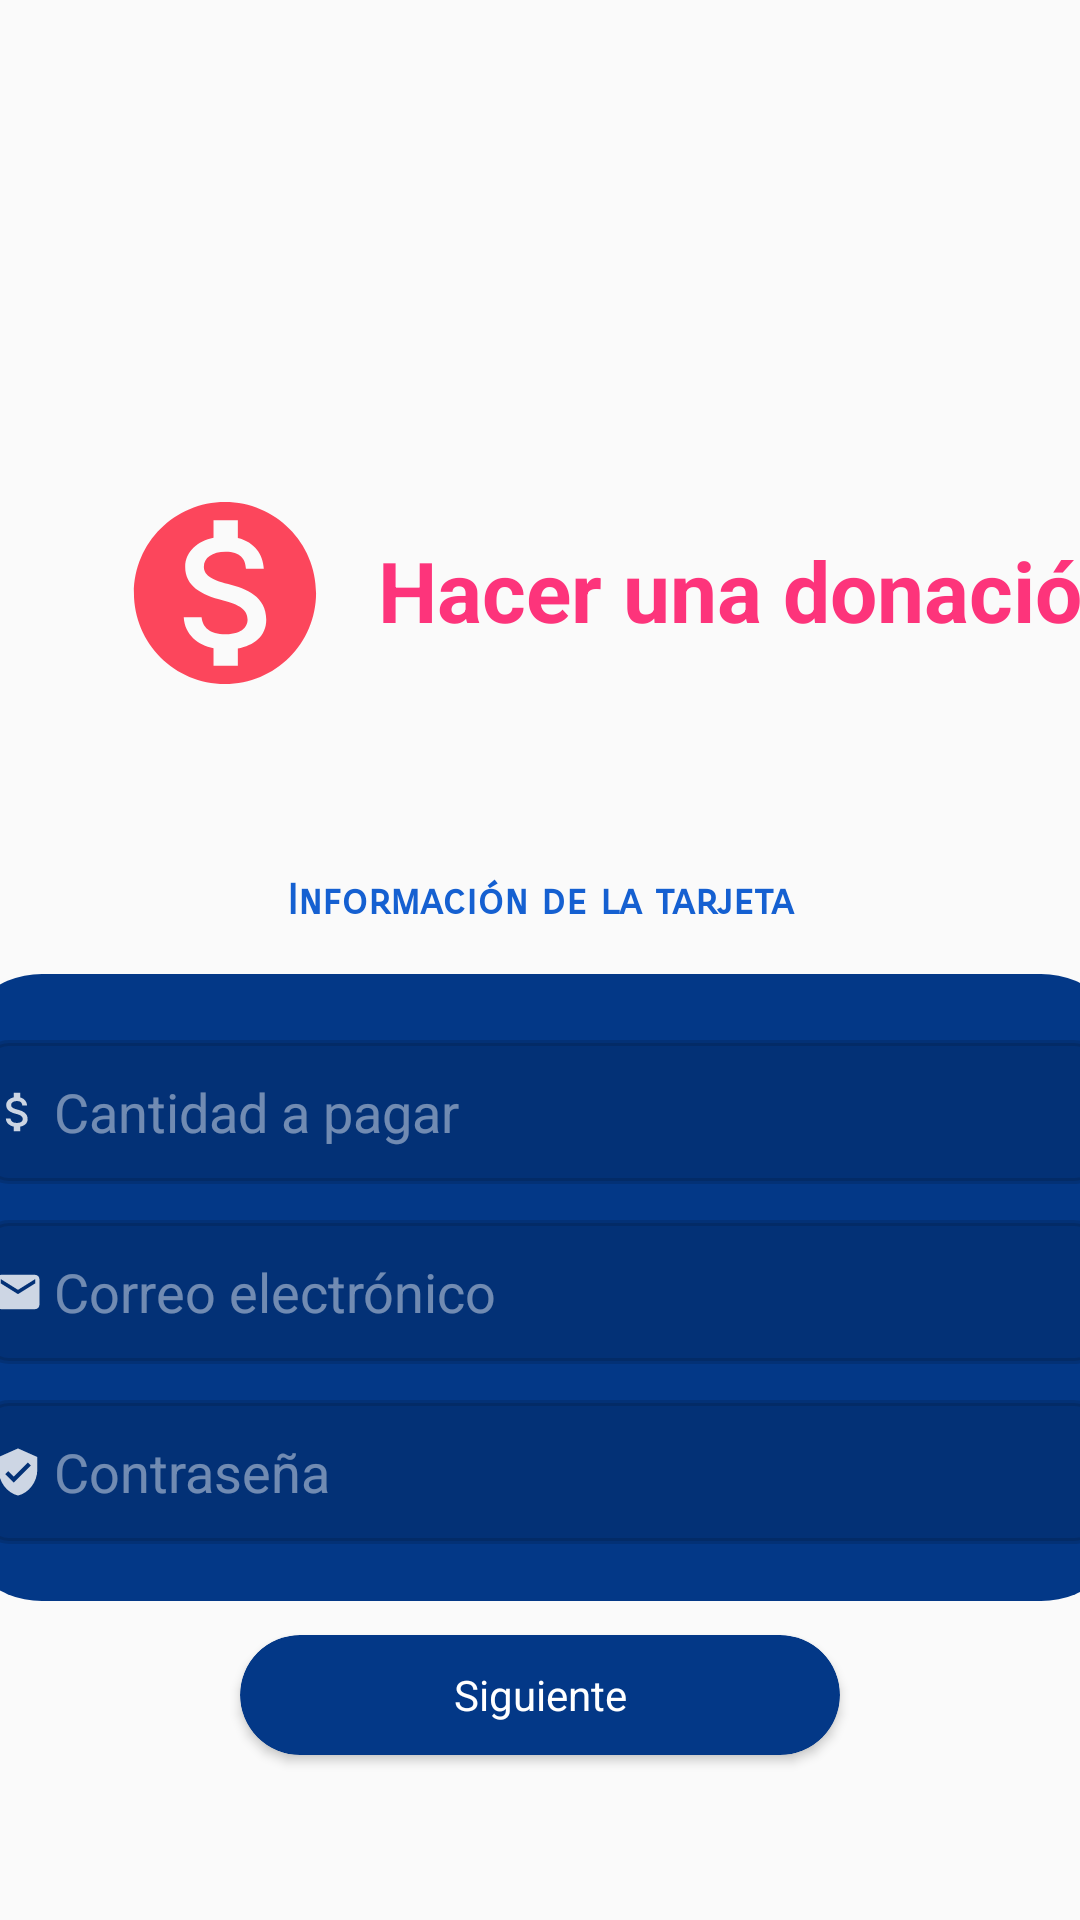

Where icons sit on this 1080*1920 app screen, as region(x1, y1, x2, y2):
donation symbol: region(133, 502, 316, 684)
